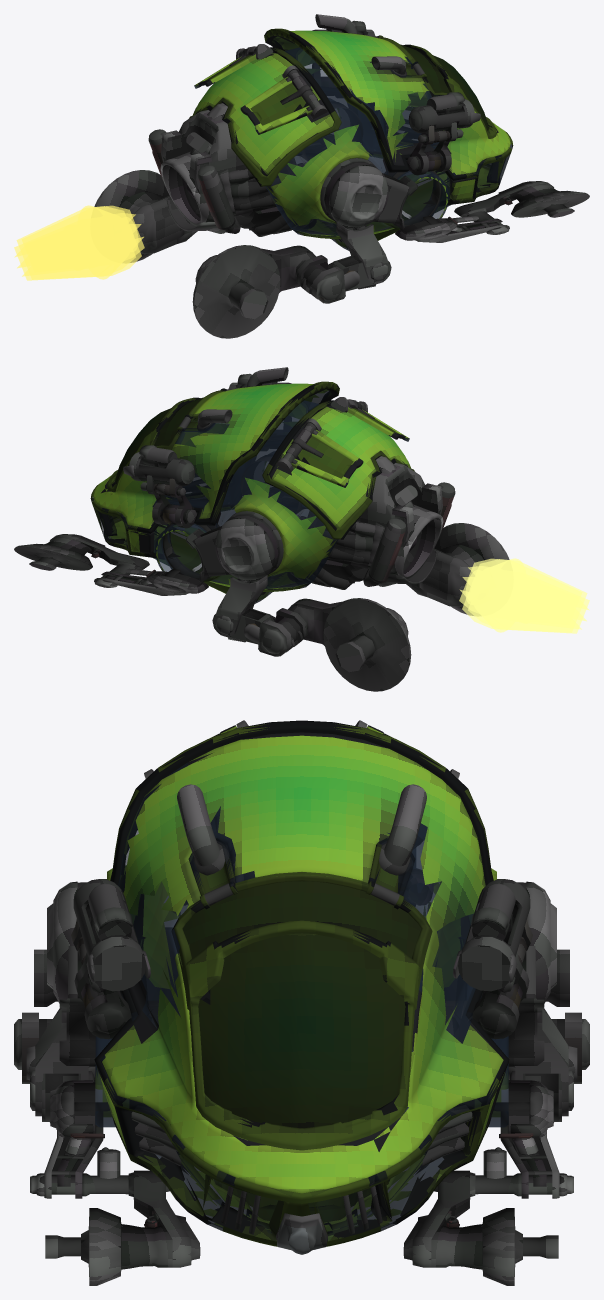
File: Scarab_ThreeWheel_Variant.glb
3 views of the same model, one above another, from view 1: azimuth 30°, elevation 25°; view 2: azimuth 150°, elevation 25°; view 3: azimuth 270°, elevation 25° (orthographic). The views are drawn at different scales.
Parts seen in each view (by area): view 1: Scarab_ThreeWheel_Variant; view 2: Scarab_ThreeWheel_Variant; view 3: Scarab_ThreeWheel_Variant.
Boxes of the visible parts, <box> form: Scarab_ThreeWheel_Variant: <box>14,14,589,338</box>; Scarab_ThreeWheel_Variant: <box>14,367,589,691</box>; Scarab_ThreeWheel_Variant: <box>14,720,589,1285</box>.
Bounding box in the file's own units: 1.5 × 0.6559 × 0.7591.
6 materials, 5 textured.
